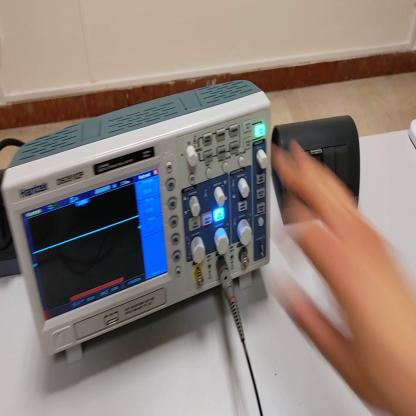hand: (271, 133, 415, 403)
oscilloscope: (1, 79, 270, 367)
socket: (2, 171, 22, 279)
